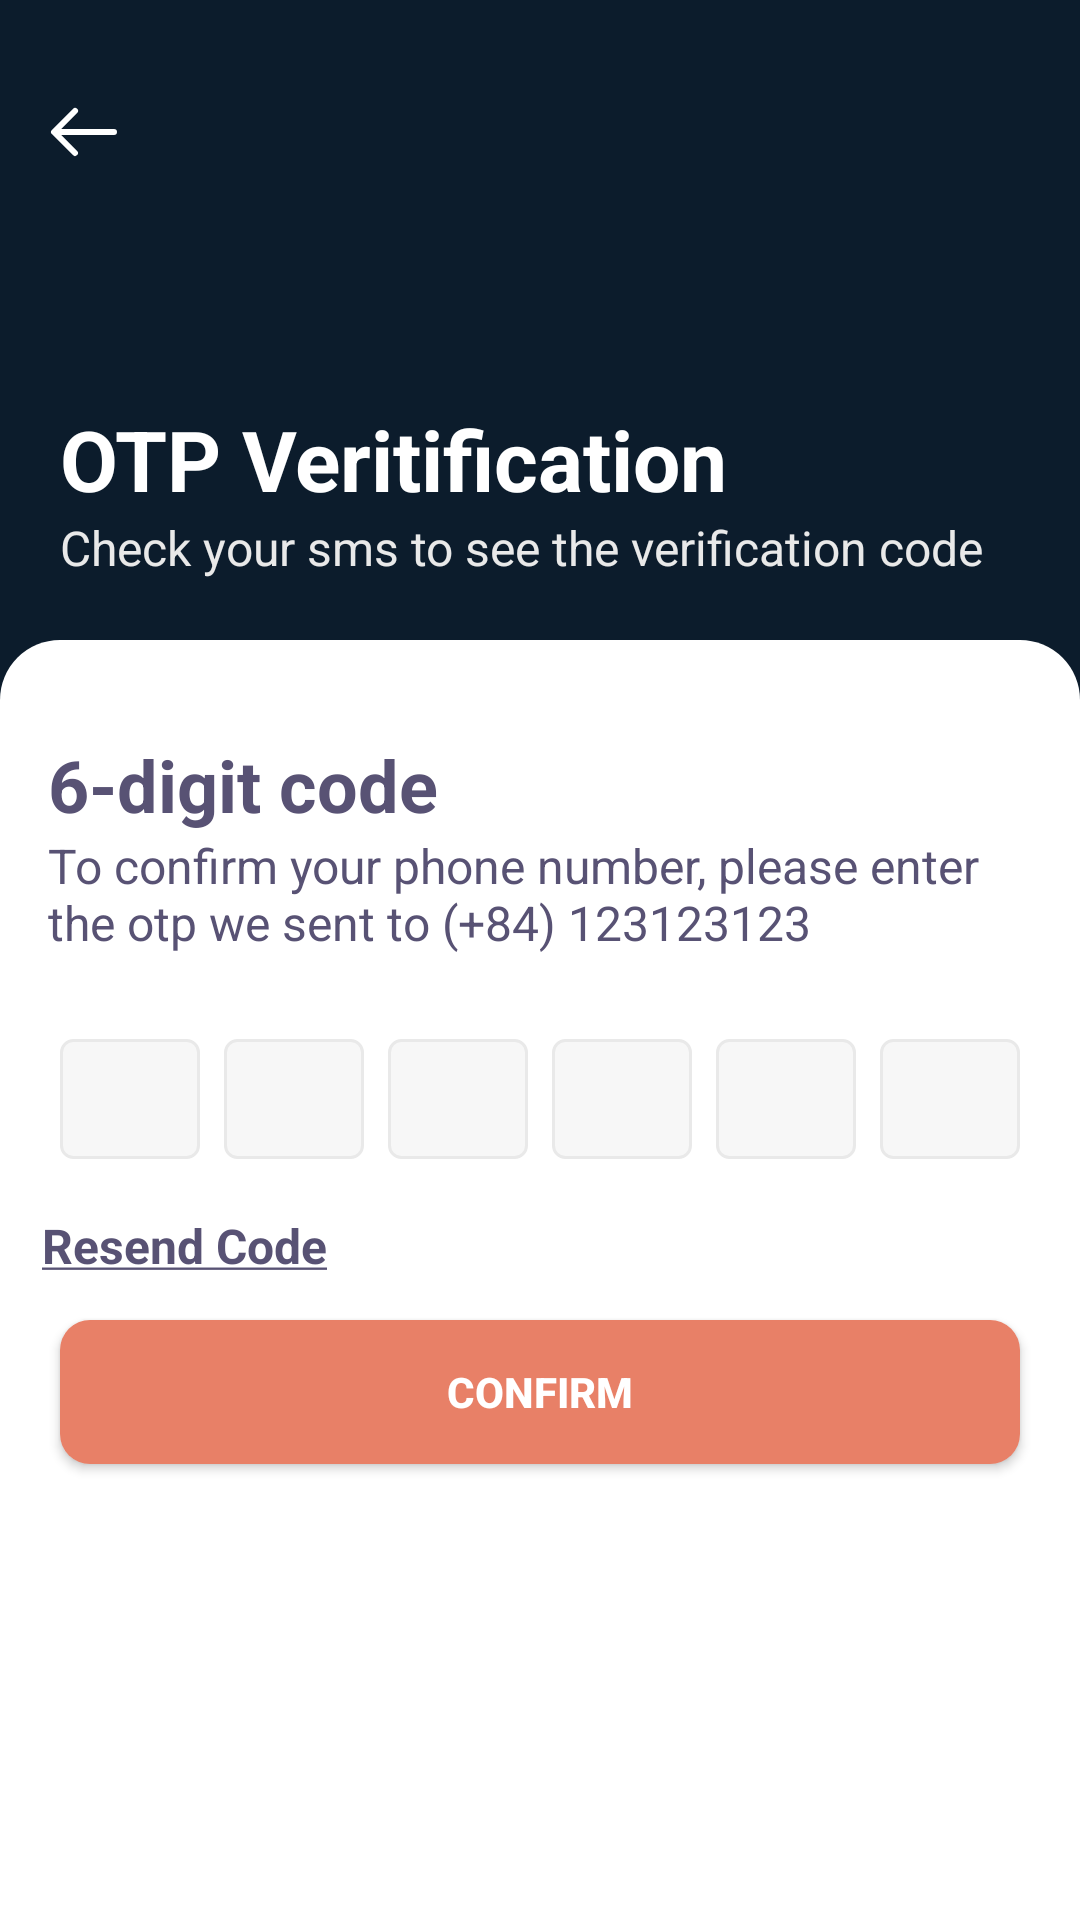

Icons on this 1080*1920 Android screen, each with the point to tap as point (x, y):
back: point (84, 131)
